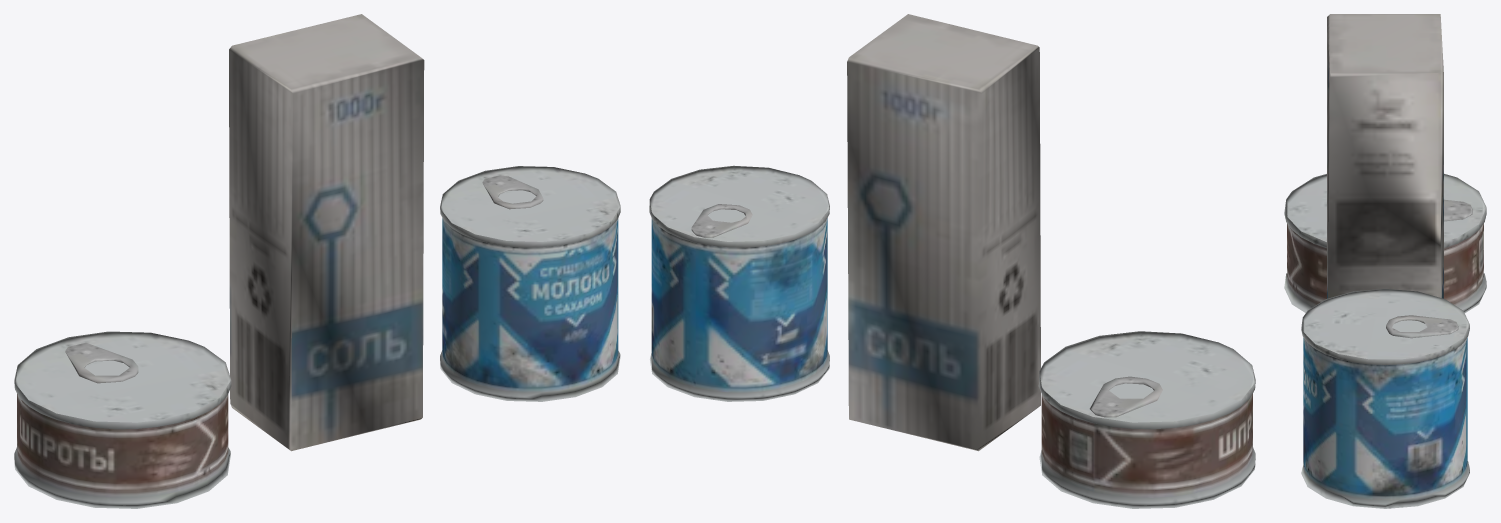
The model's file is foodCans.glb.
3 views of the same model, side by side, from view 1: azimuth 30°, elevation 25°; view 2: azimuth 150°, elevation 25°; view 3: azimuth 270°, elevation 25° (orthographic). The views are drawn at different scales.
Parts seen in each view (by area): view 1: russian_food_cans_01_salt_box, russian_food_cans_01_can_cond, russian_food_cans_01_can_fish; view 2: russian_food_cans_01_salt_box, russian_food_cans_01_can_cond, russian_food_cans_01_can_fish; view 3: russian_food_cans_01_can_cond, russian_food_cans_01_salt_box, russian_food_cans_01_can_fish.
Boxes of the visible parts, <box> form: russian_food_cans_01_salt_box: <box>229,14,424,451</box>; russian_food_cans_01_can_cond: <box>440,166,620,401</box>; russian_food_cans_01_can_fish: <box>14,331,231,508</box>; russian_food_cans_01_salt_box: <box>847,14,1040,451</box>; russian_food_cans_01_can_cond: <box>649,165,829,401</box>; russian_food_cans_01_can_fish: <box>1038,331,1255,508</box>; russian_food_cans_01_can_cond: <box>1301,288,1469,508</box>; russian_food_cans_01_salt_box: <box>1327,14,1443,298</box>; russian_food_cans_01_can_fish: <box>1284,174,1486,312</box>.
Size of the model in its own units: 0.1424 by 0.0849 by 0.0462.
Materials: 1 (1 with a texture image).
